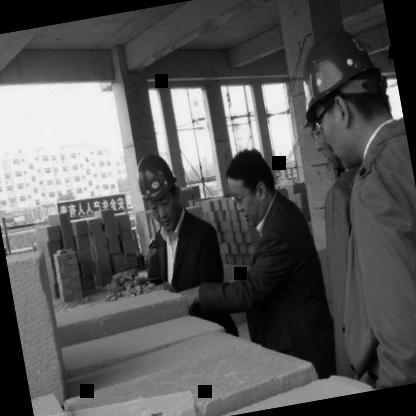head: (219, 144, 283, 230)
helmet: (286, 16, 400, 174), (131, 146, 188, 235)
